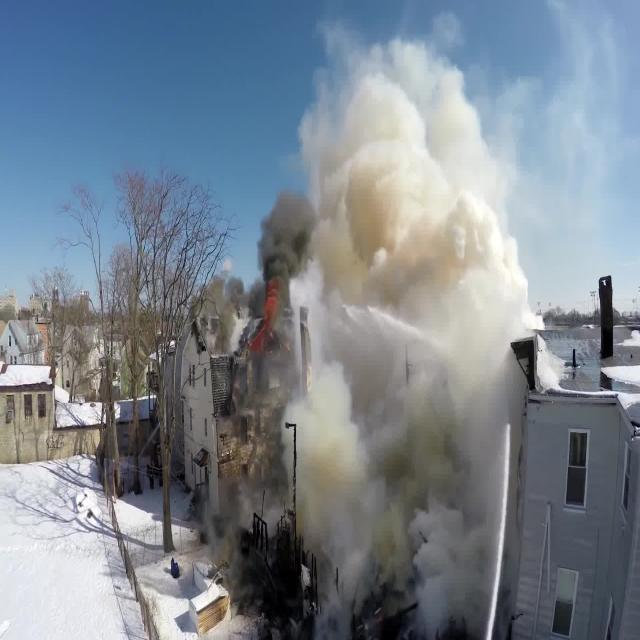Fire: (251, 255, 281, 352)
Smoke: (302, 67, 504, 618)
